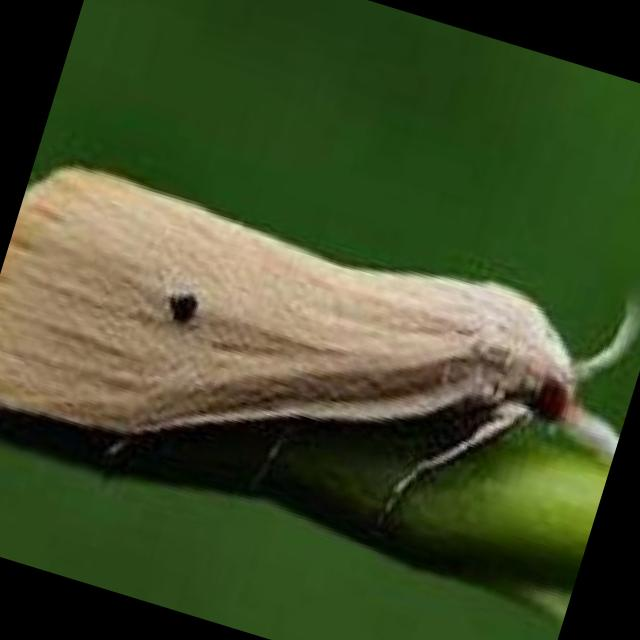stem-borer: (0, 114, 640, 604)
